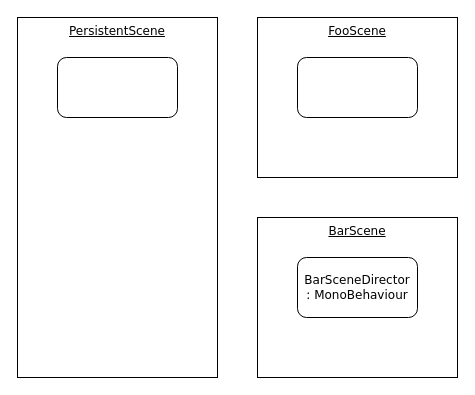
Image size: 475x395. Some labels were removed from this diagram. Each missing label, with the centre of its shape:
FooSceneDirector : MonoBehaviour: the point at 357,87
SceneNavigator : MonoBehaviour: the point at 117,87
